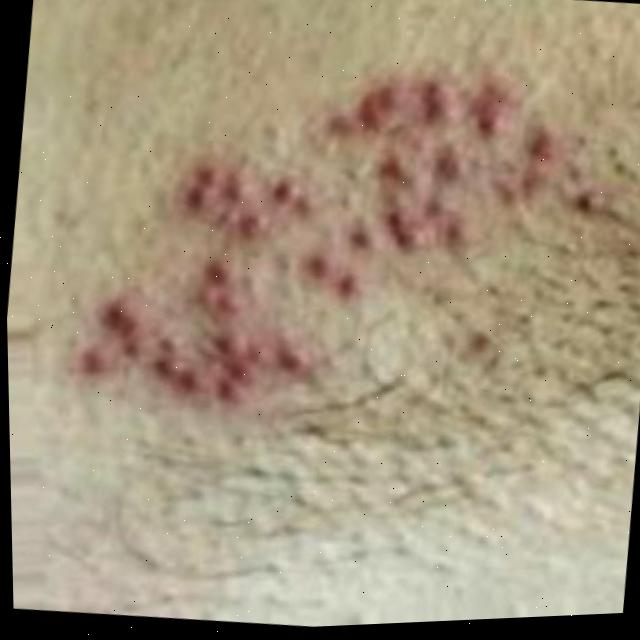Shingles: (57, 27, 634, 460)
